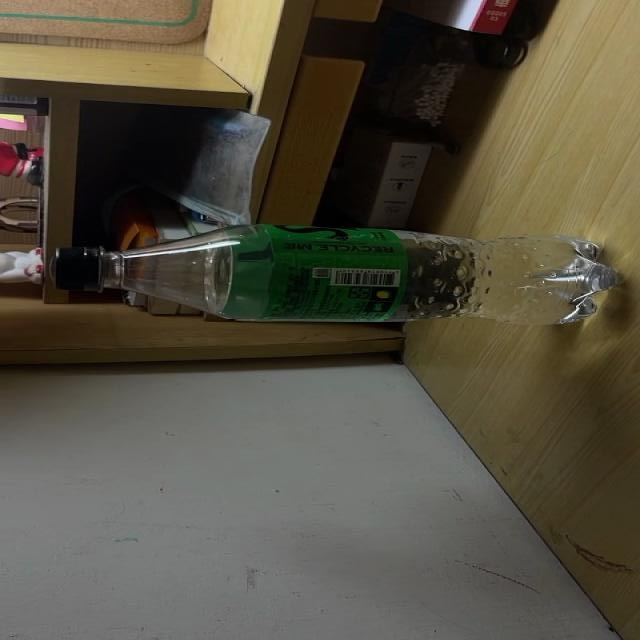Sprite: (49, 228, 617, 322)
